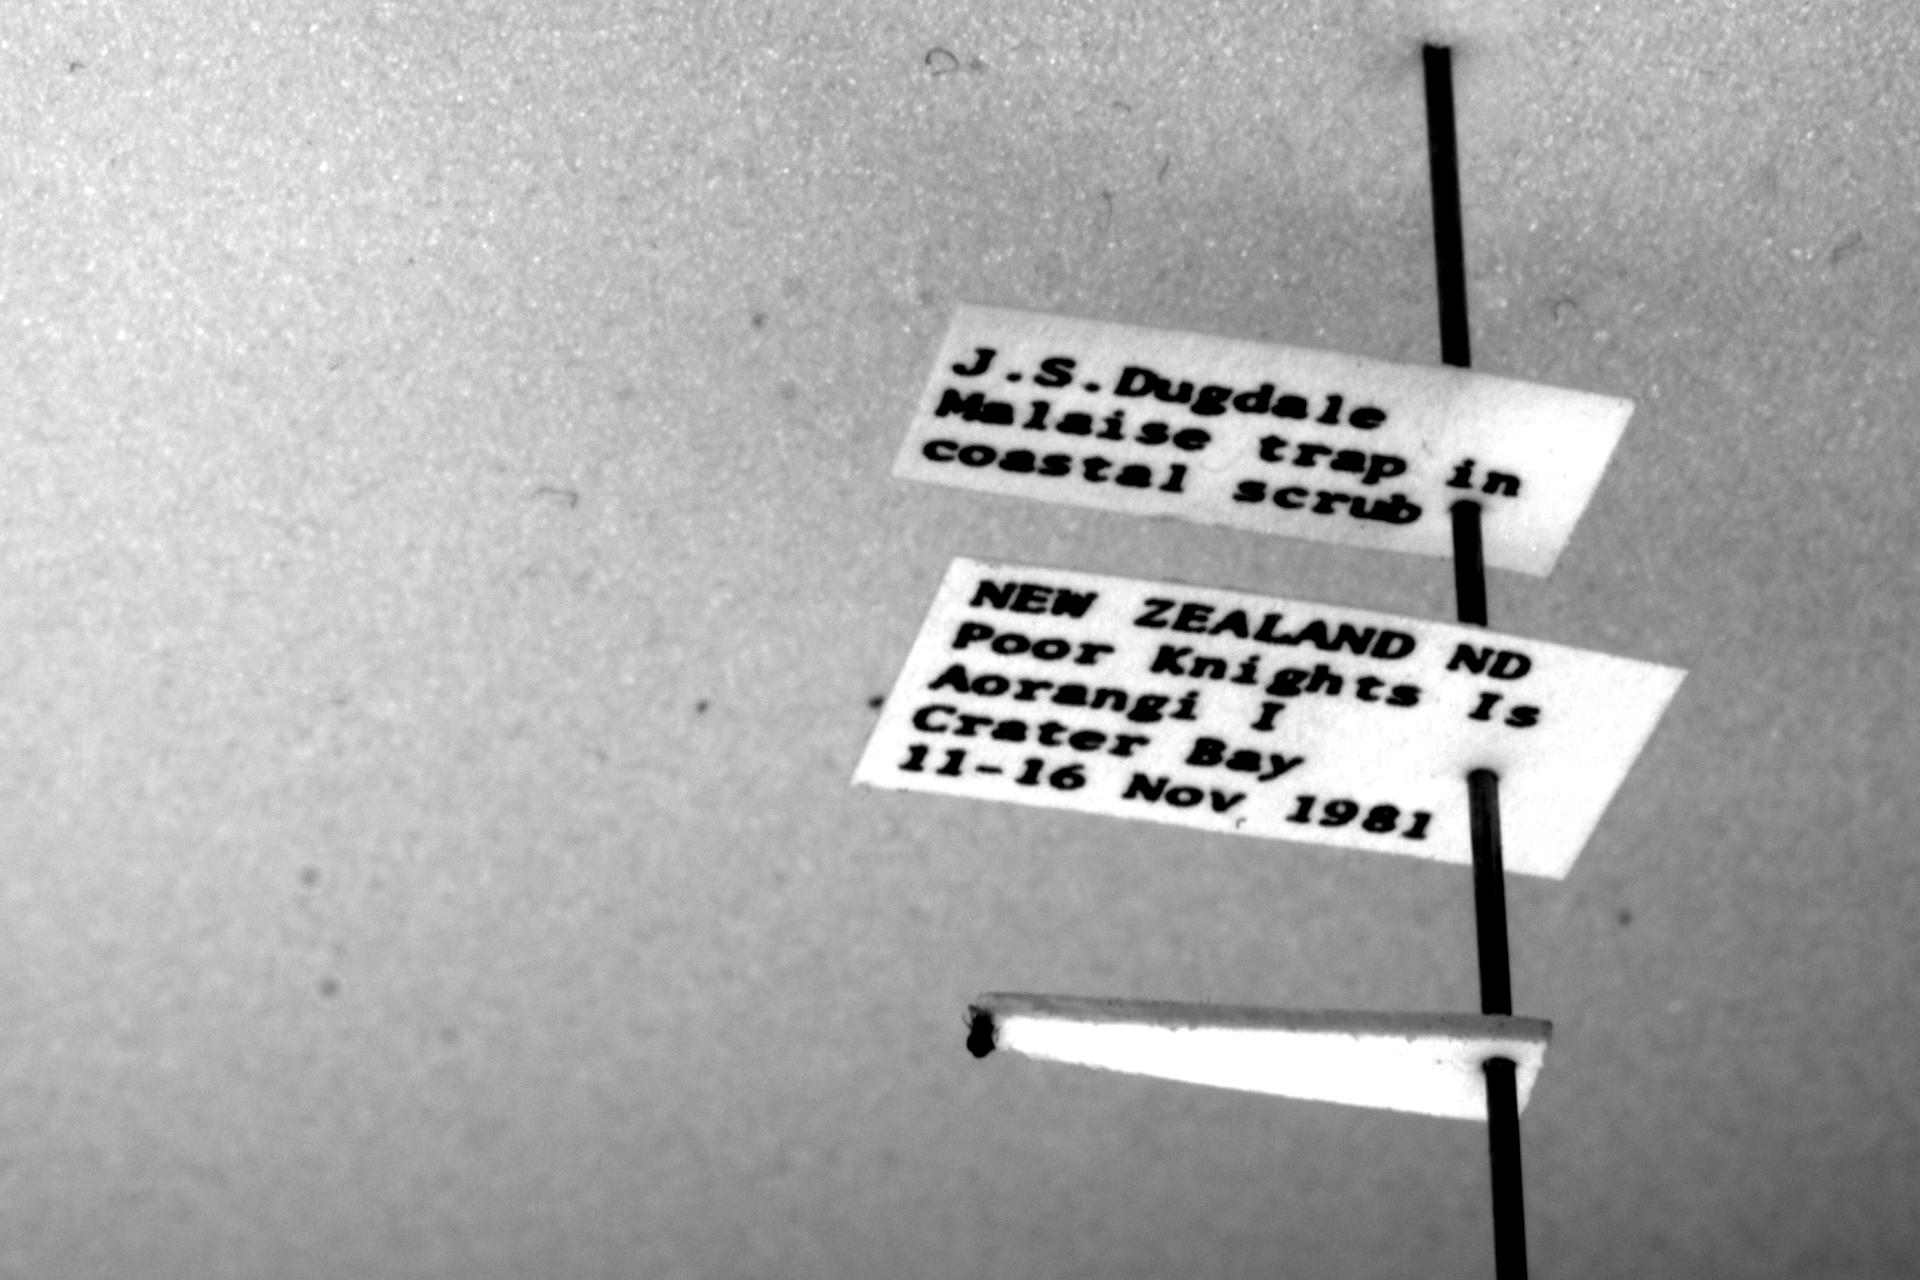typed_label: (854, 559, 1684, 877), (893, 304, 1634, 577)
